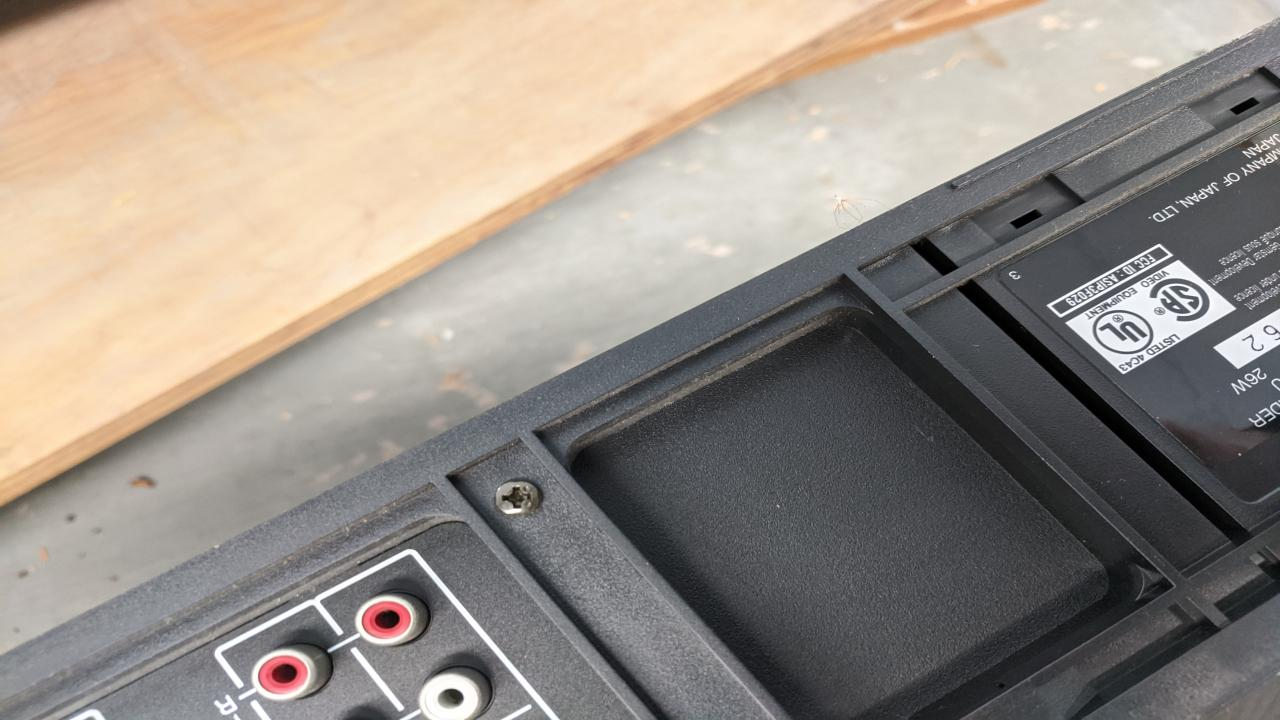CRS: (486, 481, 546, 517)
